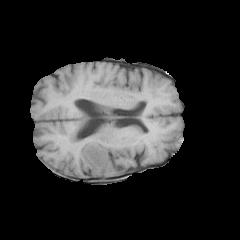glioma: (80, 135, 131, 176)
